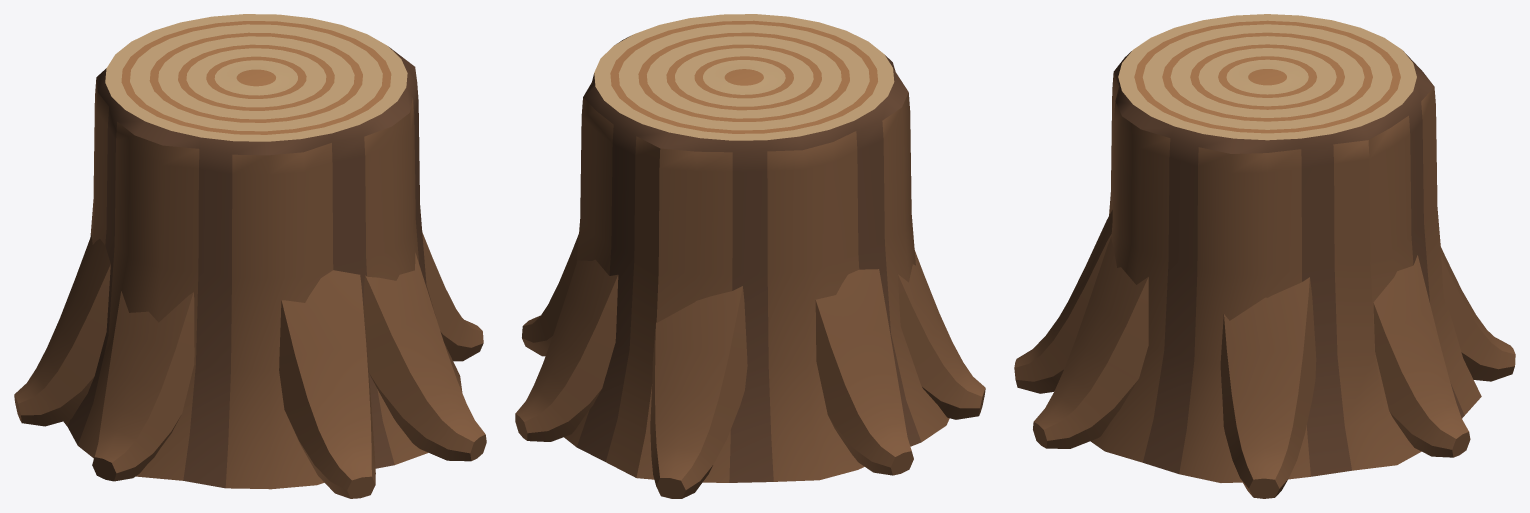
File: TreeStump.fbx
3 renders of one model, left to right at view 1: azimuth 30°, elevation 25°; view 2: azimuth 150°, elevation 25°; view 3: azimuth 270°, elevation 25°, orthographic.
Visible parts, largest first — view 1: TreeStump_Mesh; view 2: TreeStump_Mesh; view 3: TreeStump_Mesh.
Part boxes in pixels (x1,y1,x2,y2): TreeStump_Mesh: [14, 14, 486, 498]; TreeStump_Mesh: [515, 14, 985, 498]; TreeStump_Mesh: [1014, 14, 1515, 498].
Size of the model in its own units: 0.6894 by 0.5095 by 0.7181.
